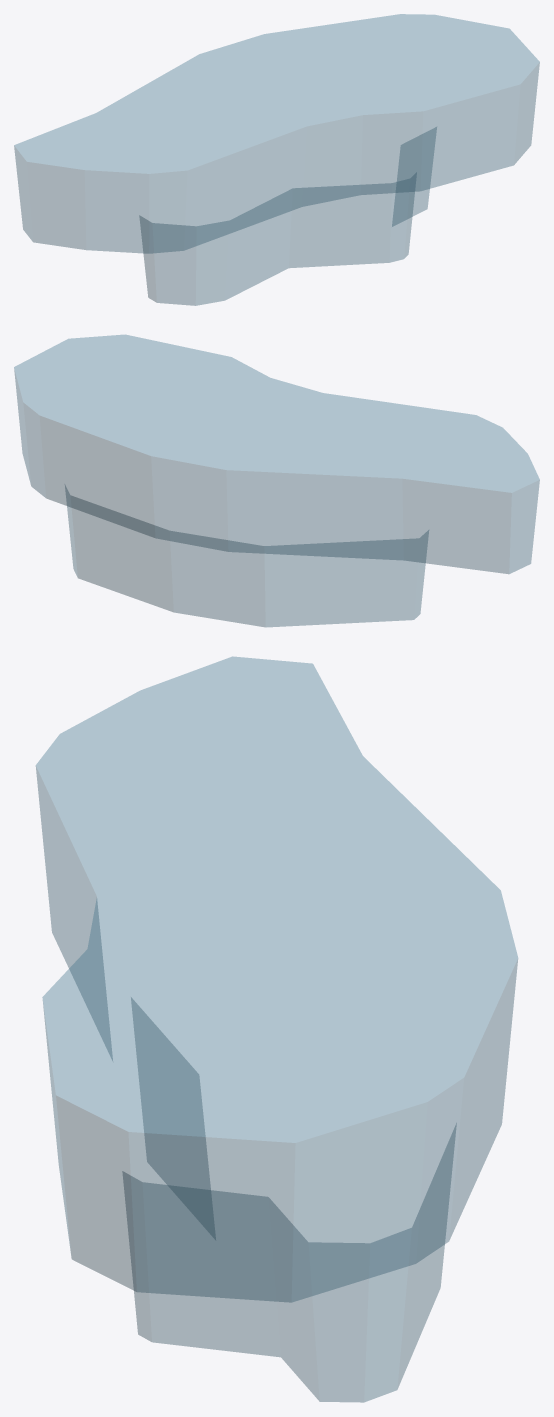
File: water_1-draco.9ed932d3.glb
3 views of the same model, one above another, from view 1: azimuth 30°, elevation 25°; view 2: azimuth 150°, elevation 25°; view 3: azimuth 270°, elevation 25° (orthographic). The views are drawn at different scales.
Visible parts, largest first — view 1: water_1; view 2: water_1; view 3: water_1.
Boxes of the visible parts, box(x1,y1,x2,y2) form: water_1: box(14, 14, 539, 305); water_1: box(14, 334, 539, 627); water_1: box(36, 656, 517, 1402).
Bounding box in the file's own units: 7.08 × 2.26 × 2.97.
1 material, 1 textured.
